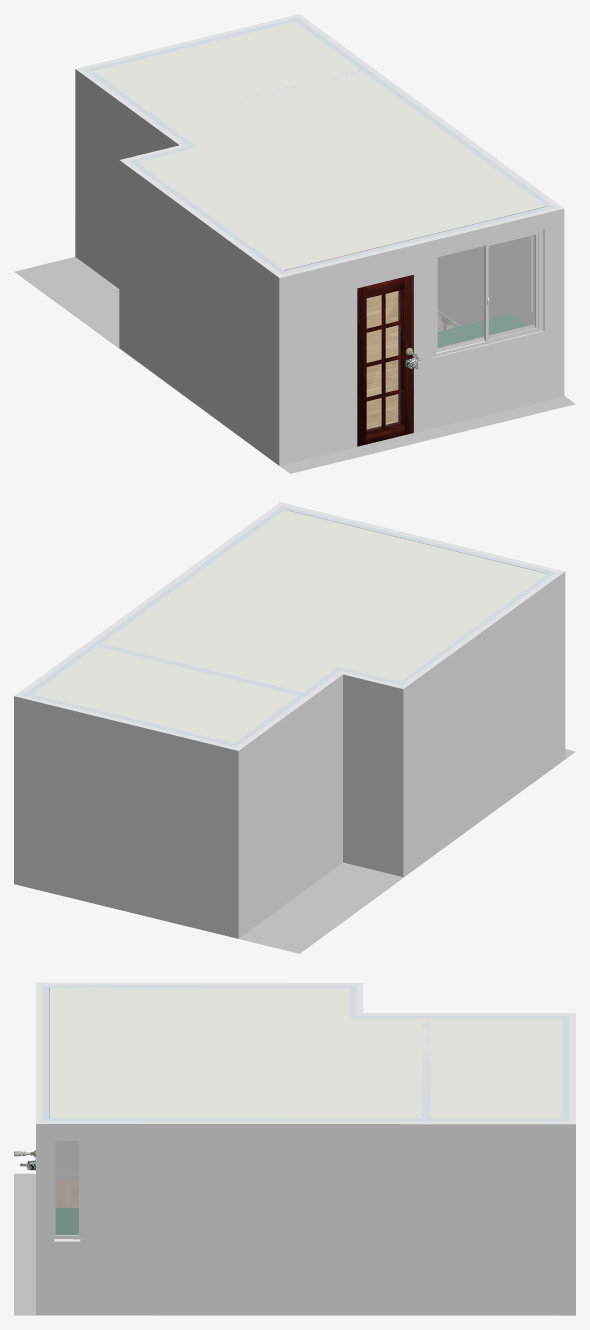
3 views of the same model, one above another, from view 1: azimuth 30°, elevation 25°; view 2: azimuth 150°, elevation 25°; view 3: azimuth 270°, elevation 25° (orthographic).
Parts seen in each view (by area): view 1: plan2; view 2: plan2; view 3: plan2.
Boxes of the visible parts, x1,y1,x2,y2 form: plan2: [14, 14, 575, 473]; plan2: [14, 502, 575, 953]; plan2: [14, 982, 575, 1315].
Bounding box in the file's own units: 3.88 × 2.44 × 6.5.
Materials: 28 (6 with a texture image).
